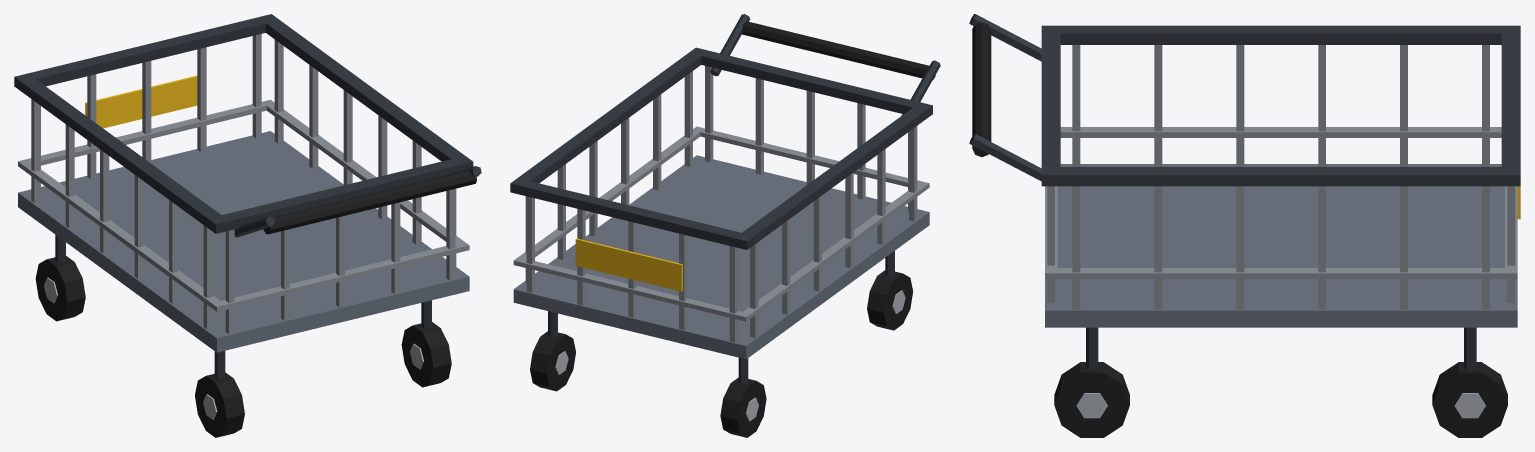
File: prop_cart_standard.glb
3 renders of one model, left to right at view 1: azimuth 30°, elevation 25°; view 2: azimuth 150°, elevation 25°; view 3: azimuth 270°, elevation 25°, orthographic. The views are drawn at different scales.
Visible parts, largest first — view 1: prop_cart_standard; view 2: prop_cart_standard; view 3: prop_cart_standard.
Boxes of the visible parts, x1,y1,x2,y2 form: prop_cart_standard: (14, 14, 481, 437); prop_cart_standard: (510, 14, 940, 437); prop_cart_standard: (969, 14, 1520, 437).
Size of the model in its own units: 1.12 by 1.05 by 1.75.
Materials: 1 (1 with a texture image).
